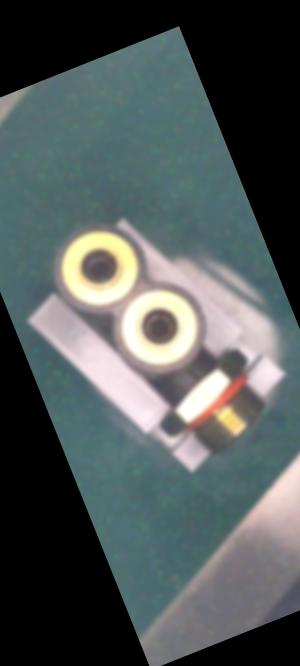craze: (184, 366, 202, 385)
